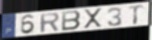3: (107, 6, 123, 27)
6: (20, 14, 36, 35)
B: (61, 10, 82, 32)
R: (39, 12, 61, 33)
T: (128, 4, 145, 25)
X: (83, 7, 103, 30)
